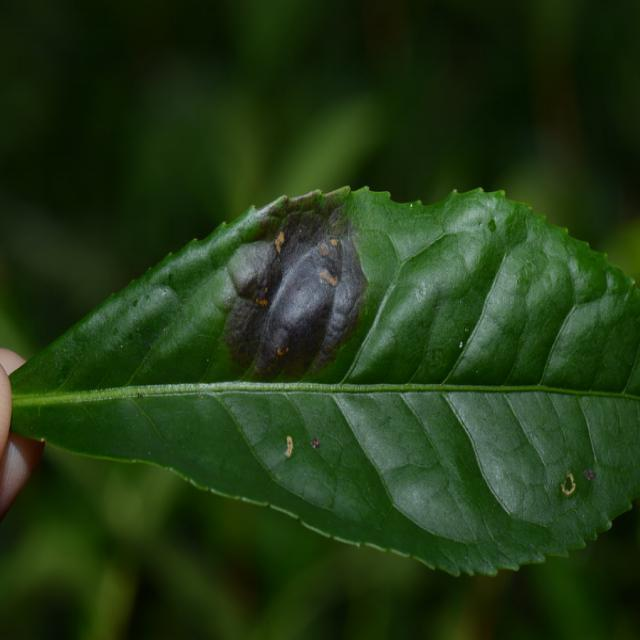Tea exobasidium blight: (227, 198, 366, 374)
